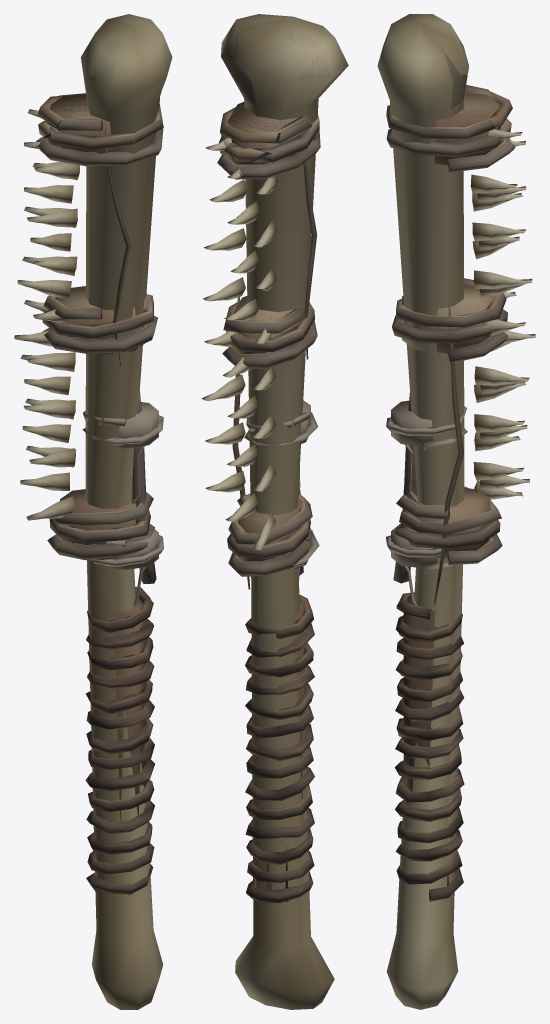
File: wpn_martax_tooth_club.glb
3 views of the same model, side by side, from view 1: azimuth 90°, elevation 25°; view 2: azimuth 150°, elevation 25°; view 3: azimuth 270°, elevation 25° (orthographic).
Parts seen in each view (by area): view 1: wpn_martax_tooth_club, wpn_martax_tooth_club_worn; view 2: wpn_martax_tooth_club, wpn_martax_tooth_club_worn; view 3: wpn_martax_tooth_club, wpn_martax_tooth_club_worn.
Part boxes in pixels (x1,y1,x2,y2): wpn_martax_tooth_club: (14,14,172,1009); wpn_martax_tooth_club_worn: (36,20,163,894); wpn_martax_tooth_club: (201,14,348,1009); wpn_martax_tooth_club_worn: (217,20,331,902); wpn_martax_tooth_club: (377,14,535,1009); wpn_martax_tooth_club_worn: (386,15,514,901).
Size of what is drawn, in the model's own units: 0.1133 by 0.9 by 0.1316.
